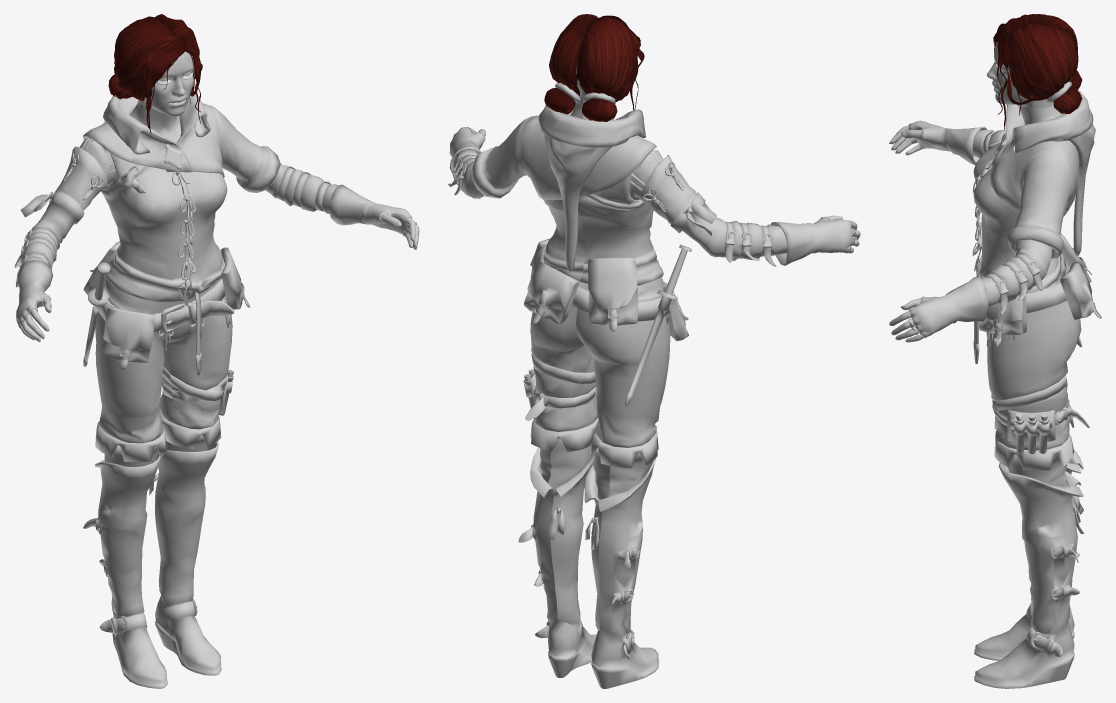
The model's file is Triss.dae.
3 renders of one model, left to right at view 1: azimuth 30°, elevation 25°; view 2: azimuth 150°, elevation 25°; view 3: azimuth 270°, elevation 25°, orthographic.
Visible parts, largest first — view 1: Model001_24_Body1_0_20_0_0_8, Model001_24_Body2_0_20_0_0_08, Model001_4_Hair_0_20_0_0_08, Model001_24_Acces_0_20_0_0_6, Model001_24_Face_0_15_0_0_5_RightLeg_RightLeg_Knee, Model001_24_Fingers_0_35_0_0_3, Model001_24_Belts_0_20_0_0_2_Torso_Spine_2, Model001_24_AccBelts_0_20_0_0_1_Head_Head_1; view 2: Model001_24_Body2_0_20_0_0_08, Model001_24_Body1_0_20_0_0_8, Model001_4_Hair_0_20_0_0_08, Model001_24_Acces_0_20_0_0_6, Model001_24_AccBelts_0_20_0_0_1_Head_Head_1; view 3: Model001_24_Body1_0_20_0_0_8, Model001_24_Body2_0_20_0_0_08, Model001_4_Hair_0_20_0_0_08, Model001_24_Acces_0_20_0_0_6, Model001_24_Face_0_15_0_0_5_RightLeg_RightLeg_Knee, Model001_24_Fingers_0_35_0_0_3, Model001_24_Belts_0_20_0_0_2_Torso_Spine_2.
Part boxes in pixels (x1,y1,x2,y2): Model001_24_Body1_0_20_0_0_8: (14,153,412,688); Model001_24_Body2_0_20_0_0_08: (20,94,338,495); Model001_4_Hair_0_20_0_0_08: (108,14,202,133); Model001_24_Acces_0_20_0_0_6: (83,241,246,369); Model001_24_Face_0_15_0_0_5_RightLeg_RightLeg_Knee: (129,51,194,142); Model001_24_Fingers_0_35_0_0_3: (20,213,419,342); Model001_24_Belts_0_20_0_0_2_Torso_Spine_2: (23,144,416,633); Model001_24_AccBelts_0_20_0_0_1_Head_Head_1: (83,262,249,375); Model001_24_Body2_0_20_0_0_08: (453,105,787,549); Model001_24_Body1_0_20_0_0_8: (448,127,855,688); Model001_4_Hair_0_20_0_0_08: (544,14,644,121); Model001_24_Acces_0_20_0_0_6: (524,238,688,341); Model001_24_AccBelts_0_20_0_0_1_Head_Head_1: (534,244,691,406); Model001_24_Body1_0_20_0_0_8: (909,120,1089,688); Model001_24_Body2_0_20_0_0_08: (972,89,1095,533); Model001_4_Hair_0_20_0_0_08: (993,14,1082,130); Model001_24_Acces_0_20_0_0_6: (974,233,1101,344); Model001_24_Face_0_15_0_0_5_RightLeg_RightLeg_Knee: (987,42,1063,124); Model001_24_Fingers_0_35_0_0_3: (889,125,924,342); Model001_24_Belts_0_20_0_0_2_Torso_Spine_2: (907,135,1063,651).
Bounding box in the file's own units: 1.17 × 0.5404 × 1.82.
